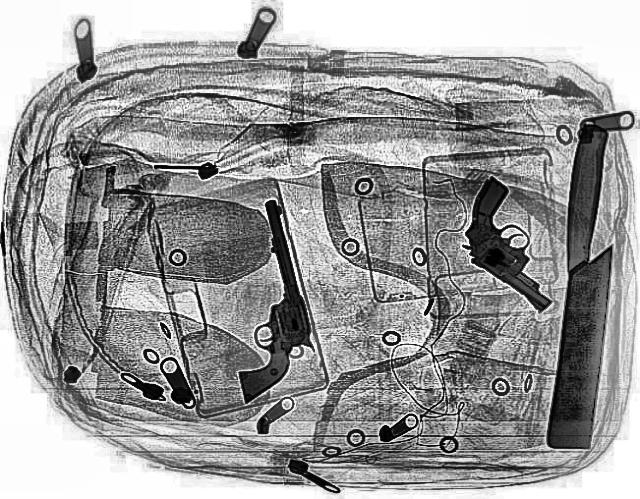Gun: (192, 198, 331, 405), (419, 175, 611, 312)
Knife: (546, 122, 620, 450)
